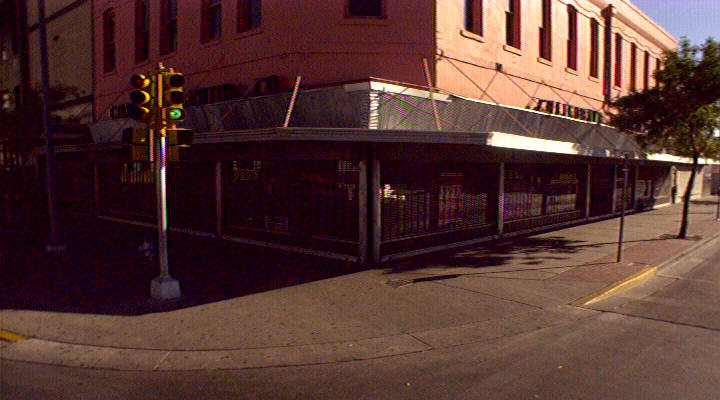Ramp: (1, 260, 626, 376)
